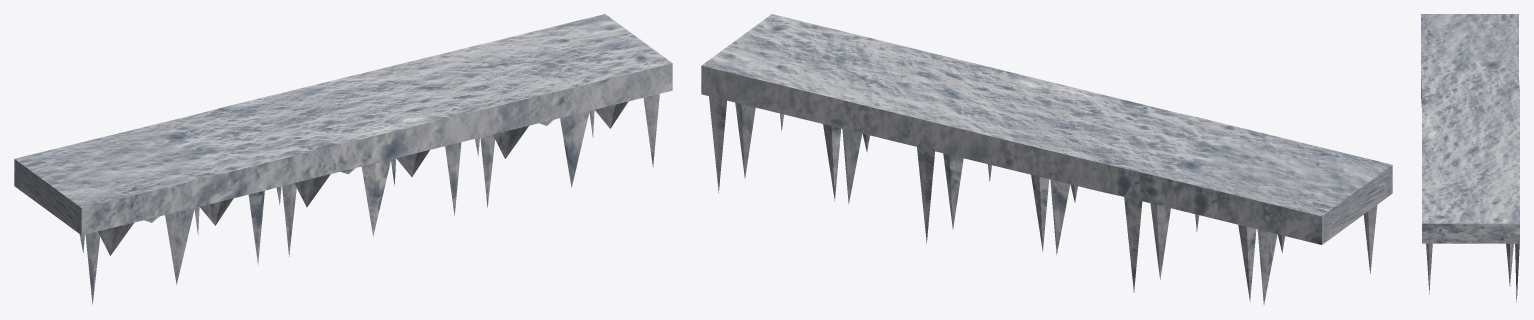
File: snow_last.fbx
3 renders of one model, left to right at view 1: azimuth 30°, elevation 25°; view 2: azimuth 150°, elevation 25°; view 3: azimuth 270°, elevation 25°, orthographic. The views are drawn at different scales.
Parts seen in each view (by area): view 1: headusOBJexport100; view 2: headusOBJexport100; view 3: headusOBJexport100.
Part boxes in pixels (bbox=[...]): headusOBJexport100: bbox=[14, 14, 672, 304]; headusOBJexport100: bbox=[701, 14, 1392, 304]; headusOBJexport100: bbox=[1421, 14, 1519, 302].
Bounding box in the file's own units: 453 × 87.85 × 90.08.
